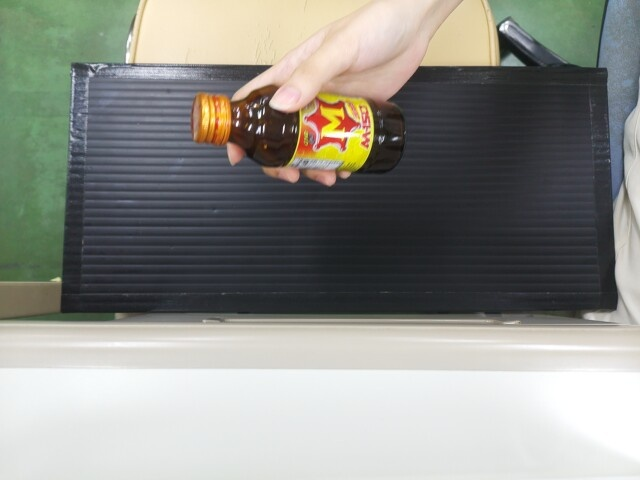glass_bottle: (189, 85, 406, 170)
